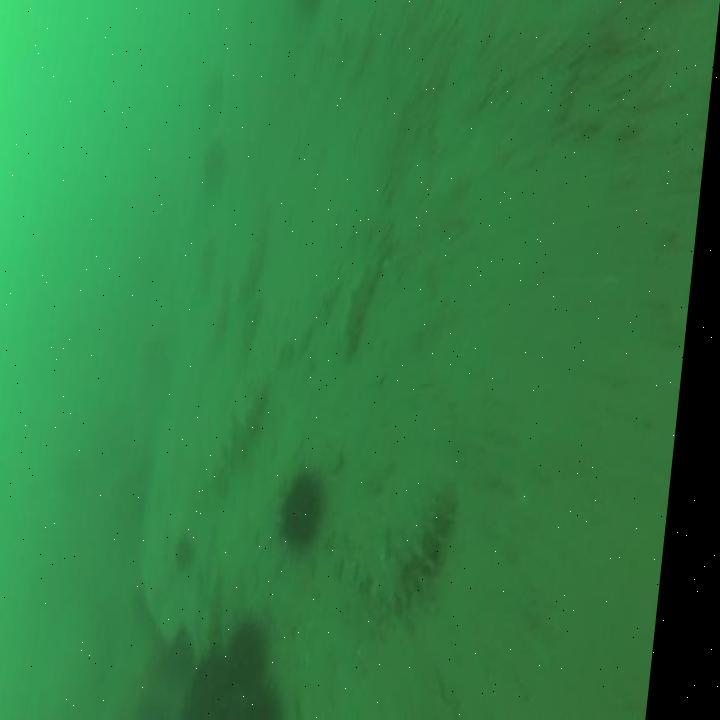echinus: (198, 656, 247, 720), (287, 477, 331, 542), (237, 675, 296, 720), (240, 619, 277, 670), (183, 539, 205, 567)
holothurian: (387, 482, 468, 620), (216, 377, 280, 487), (346, 254, 388, 361)
